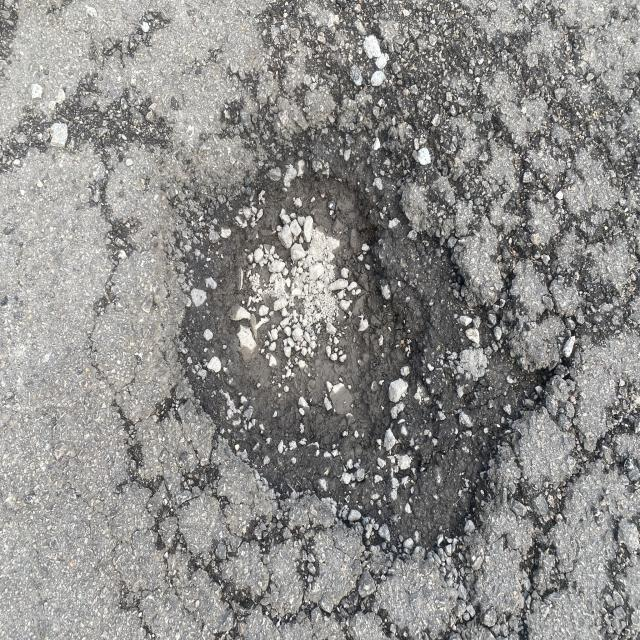pothole: (141, 142, 558, 562)
